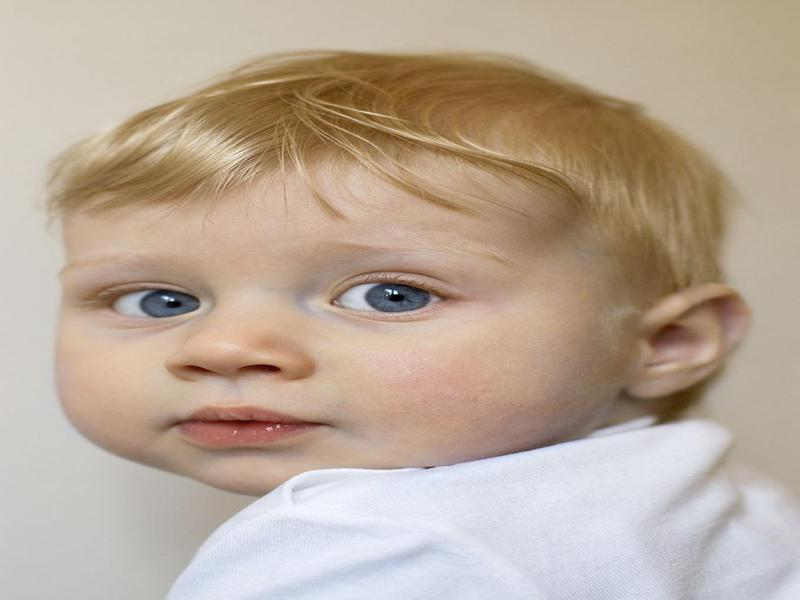person: (55, 35, 789, 600)
